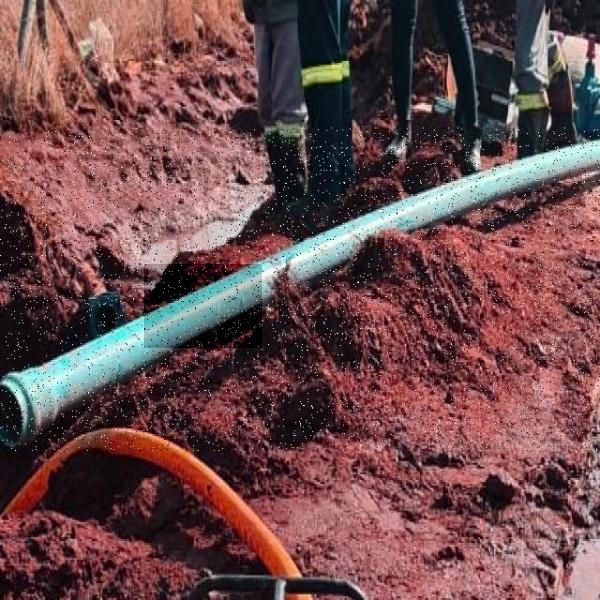no leak: (144, 264, 262, 348)
